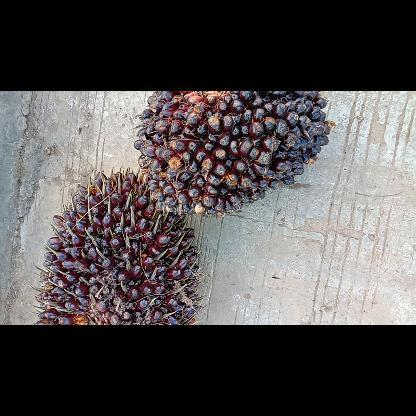TBS mentah: (36, 170, 202, 324), (134, 92, 330, 214)
